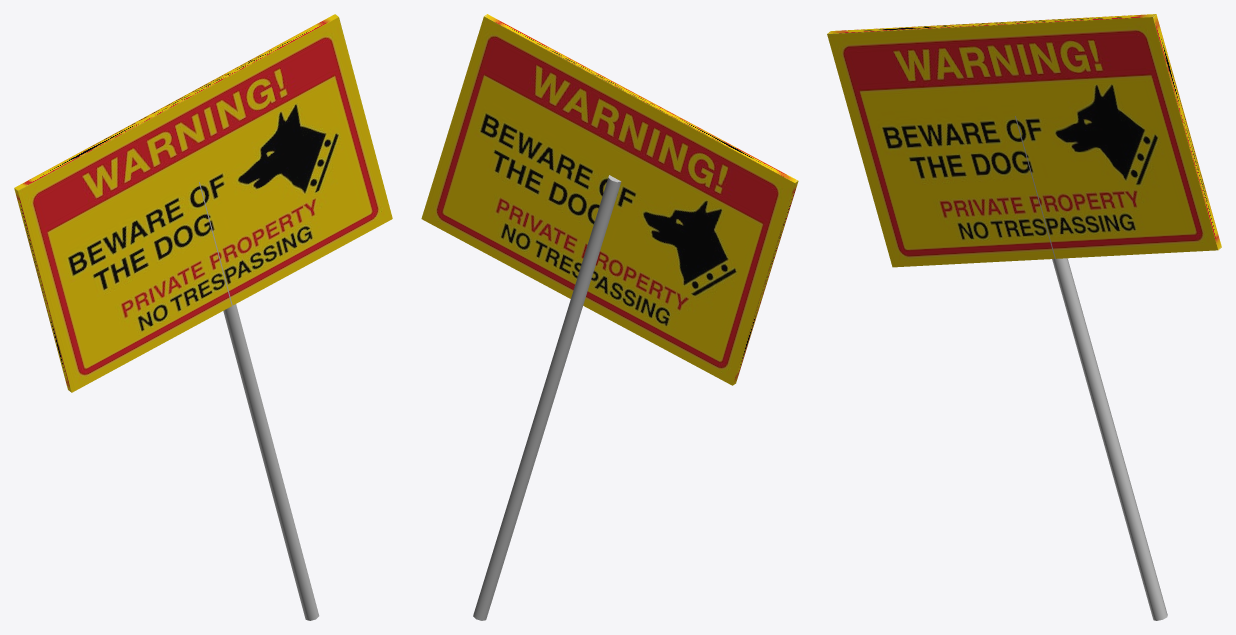
Rendered from sign.fbx.
The picture shows the model from 3 angles, left to right: view 1: azimuth 30°, elevation 25°; view 2: azimuth 150°, elevation 25°; view 3: azimuth 330°, elevation 25°; orthographic projection. The views are drawn at different scales.
Parts seen in each view (by area): view 1: Box008, Cylinder008; view 2: Box008, Cylinder008; view 3: Box008, Cylinder008.
Boxes of the visible parts, box(x1,y1,x2,y2) form: Box008: box(14, 14, 392, 392); Cylinder008: box(199, 182, 319, 620); Box008: box(421, 14, 798, 385); Cylinder008: box(473, 175, 621, 620); Box008: box(827, 14, 1221, 267); Cylinder008: box(1015, 116, 1167, 620).
Size of the model in its own units: 163 by 250 by 16.18.
